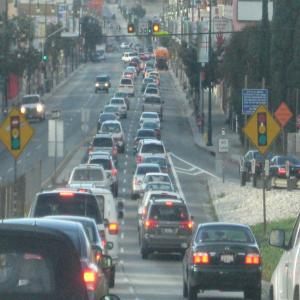Vehicle-registration-plate: (221, 255, 235, 265), (165, 228, 173, 234)
